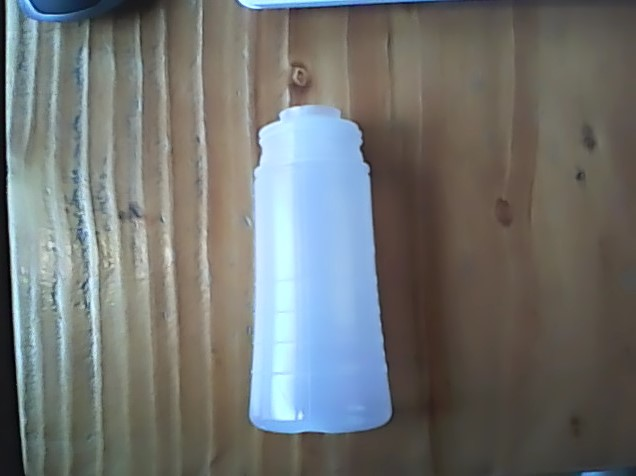Plastic: (239, 95, 396, 443)
